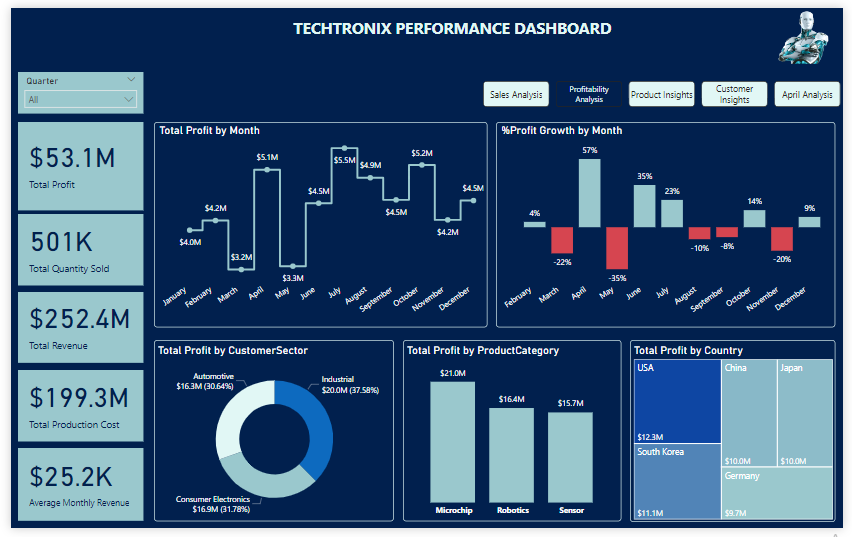

What the dashboard file says about the page in this screenshot:
{"tool":"powerbi","page":{"name":"Profitability Analysis","canvas":[1280,800],"ordinal":1},"visuals":[{"type":"cardVisual","fields":{"Data":["Calculated Measures.Total Profit"]},"box":[10.4,176.1,192.5,135.8],"z":0},{"type":"pageNavigator","box":[726.3,112.1,553.5,40],"z":1000},{"type":"cardVisual","fields":{"Data":["Calculated Measures.Total Qty Sold"]},"box":[10.4,316.4,192.5,110.4],"z":2000},{"type":"cardVisual","fields":{"Data":["Calculated Measures.Average Monthly Revenue"]},"box":[10.4,677.6,192.5,111.9],"z":3000},{"type":"cardVisual","fields":{"Data":["Calculated Measures.Total sales"]},"box":[10.4,437.3,192.5,109],"z":4000},{"type":"cardVisual","fields":{"Data":["Calculated Measures.Total Production Cost"]},"box":[10.4,556.7,192.5,110.4],"z":5000},{"type":"textbox","box":[217.9,9,920.9,49.3],"z":6000},{"type":"image","box":[1158,0,122,90.7],"z":7000},{"type":"clusteredColumnChart","fields":{"Category":["Product Dim.ProductCategory"],"Y":["Calculated Measures.Total Profit"]},"box":[603,510.4,335.8,279.1],"z":8000},{"type":"lineChart","fields":{"Y":["Calculated Measures.Total Profit"],"Category":["Calendar Dim.Month"]},"box":[219.4,176.1,513.4,316.4],"z":9000},{"type":"donutChart","fields":{"Category":["Customer Dim.CustomerSector"],"Y":["Calculated Measures.Total Profit"]},"box":[219.4,510.4,368.7,279.1],"z":10000},{"type":"clusteredColumnChart","fields":{"Y":["Calculated Measures.%Profit Growth"],"Category":["Calendar Dim.Month"]},"box":[746.3,176.1,522.4,316.4],"z":11000},{"type":"treemap","fields":{"Values":["Calculated Measures.Total Profit"],"Group":["Location Dim.Country"]},"box":[952.5,510.1,316.2,279.8],"z":12000},{"type":"slicer","fields":{"Values":["Calendar Dim.Quarter"]},"box":[10.1,99,192.9,63.6],"z":13000}]}

Visuals, with their boxes in screenshot pixels (x1, y1, x2, y2), scaled from the page's 1280x800 canvas onto the 852x537 screenshot:
cardVisual - Calculated Measures.Total Profit: [7,118,135,209]
pageNavigator: [483,75,851,102]
cardVisual - Calculated Measures.Total Qty Sold: [7,212,135,286]
cardVisual - Calculated Measures.Average Monthly Revenue: [7,455,135,530]
cardVisual - Calculated Measures.Total sales: [7,294,135,367]
cardVisual - Calculated Measures.Total Production Cost: [7,374,135,448]
textbox: [145,6,758,39]
image: [771,0,851,61]
clusteredColumnChart - Product Dim.ProductCategory x Calculated Measures.Total Profit: [401,343,625,530]
lineChart - Calculated Measures.Total Profit x Calendar Dim.Month: [146,118,488,331]
donutChart - Customer Dim.CustomerSector x Calculated Measures.Total Profit: [146,343,391,530]
clusteredColumnChart - Calculated Measures.%Profit Growth x Calendar Dim.Month: [497,118,844,331]
treemap - Calculated Measures.Total Profit x Location Dim.Country: [634,342,844,530]
slicer - Calendar Dim.Quarter: [7,66,135,109]
